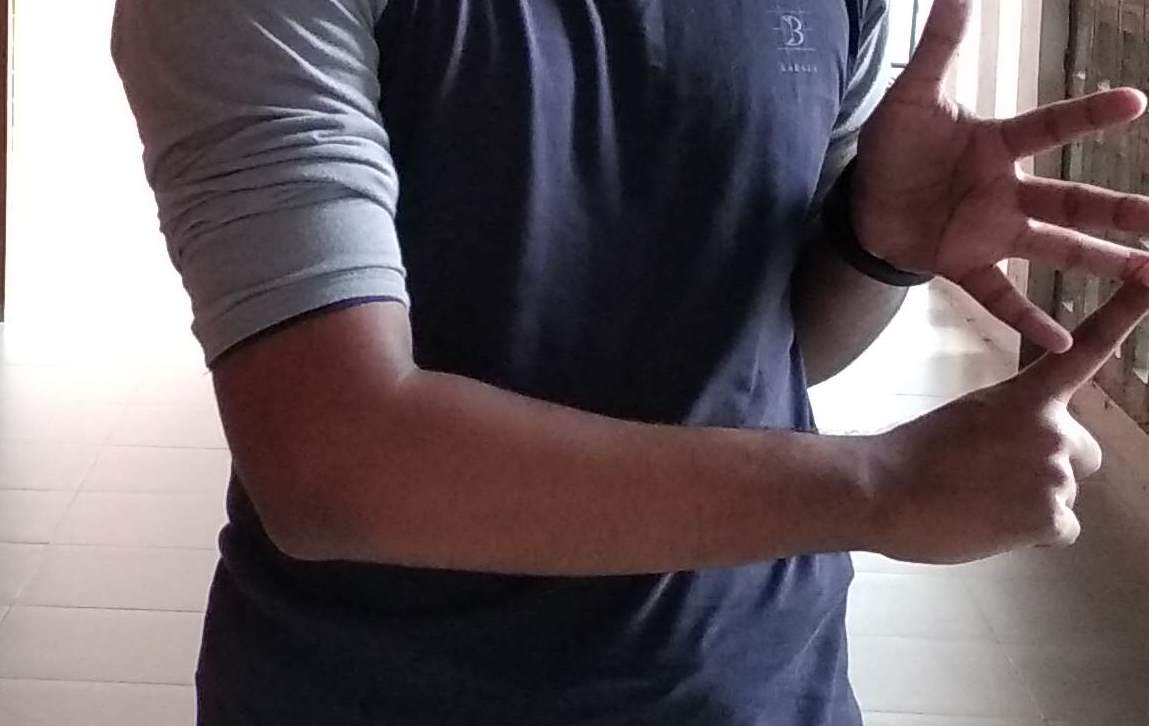e: (904, 34, 1149, 520)
